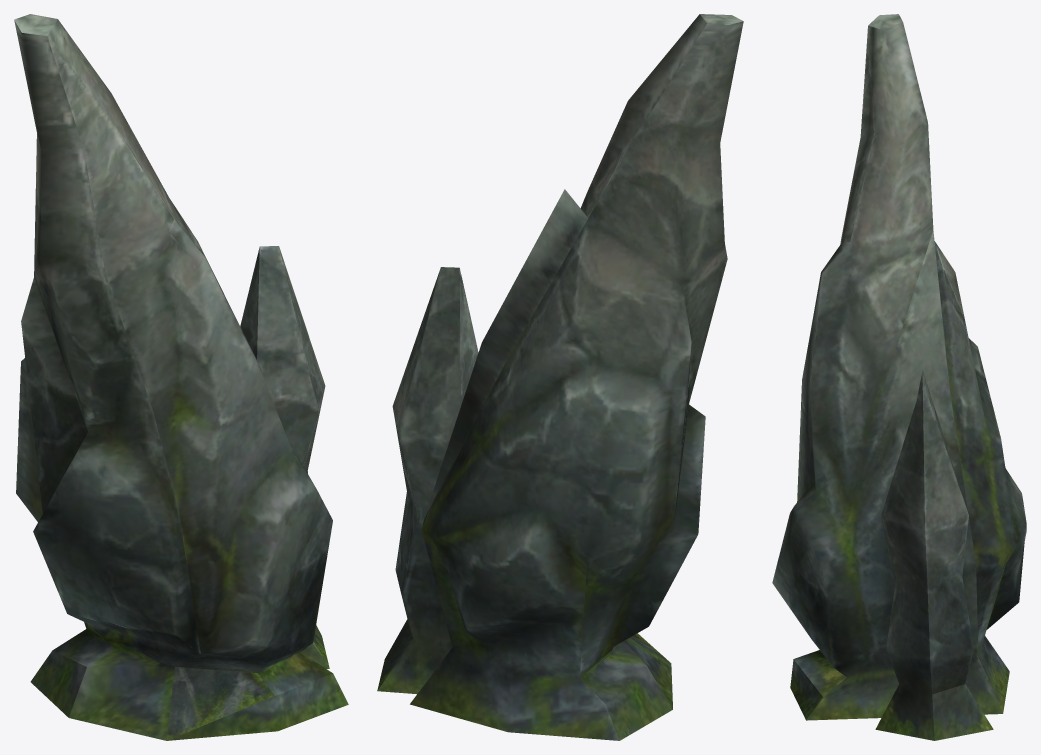
The model's file is jz_shan01_53_29_8823out.fbx.
3 renders of one model, left to right at view 1: azimuth 30°, elevation 25°; view 2: azimuth 150°, elevation 25°; view 3: azimuth 270°, elevation 25°, orthographic. The views are drawn at different scales.
Visible parts, largest first — view 1: jz_shan01; view 2: jz_shan01; view 3: jz_shan01.
Boxes of the visible parts, bbox=[...] form: jz_shan01: bbox=[14, 14, 348, 740]; jz_shan01: bbox=[377, 14, 743, 740]; jz_shan01: bbox=[772, 14, 1026, 740].
Bounding box in the file's own units: 2.66 × 5.43 × 2.11.
